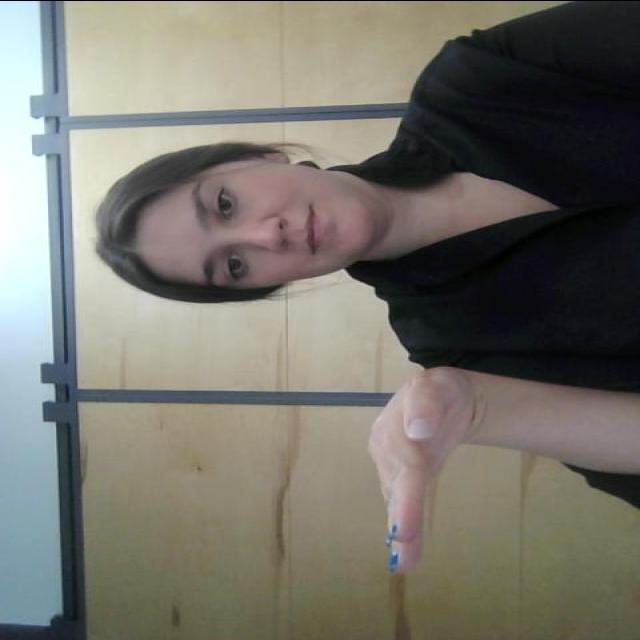Paper: (352, 368, 468, 550)
